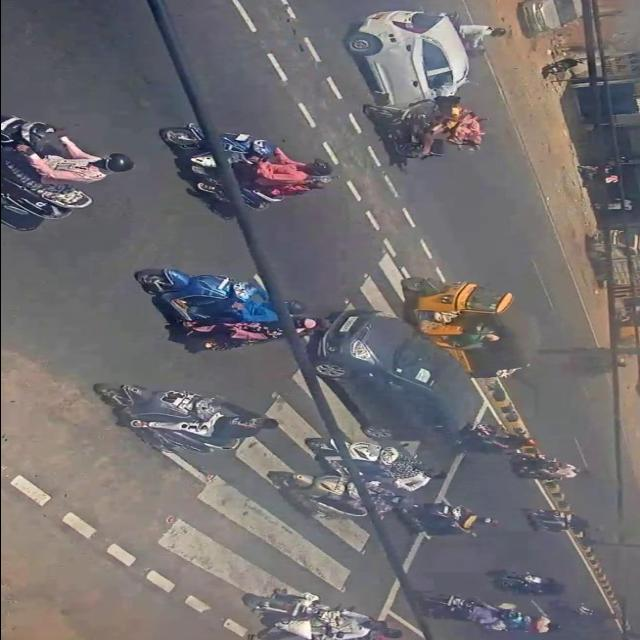accident: (340, 2, 485, 159)
non_accident: (308, 271, 540, 437)
